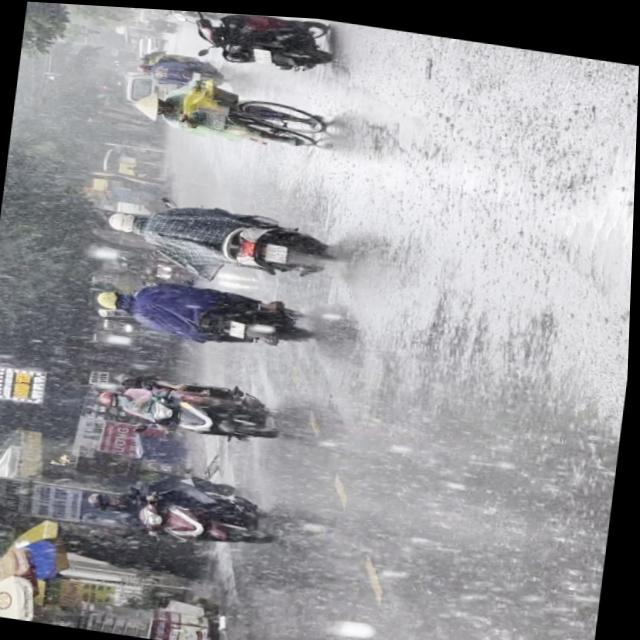helmet: (107, 206, 144, 231), (95, 286, 132, 310), (88, 489, 122, 509), (99, 389, 128, 407)
licenseplate: (101, 188, 344, 283), (91, 268, 319, 355), (84, 469, 288, 553), (94, 364, 296, 448)
nohelmet: (266, 239, 287, 259), (229, 318, 247, 333)
